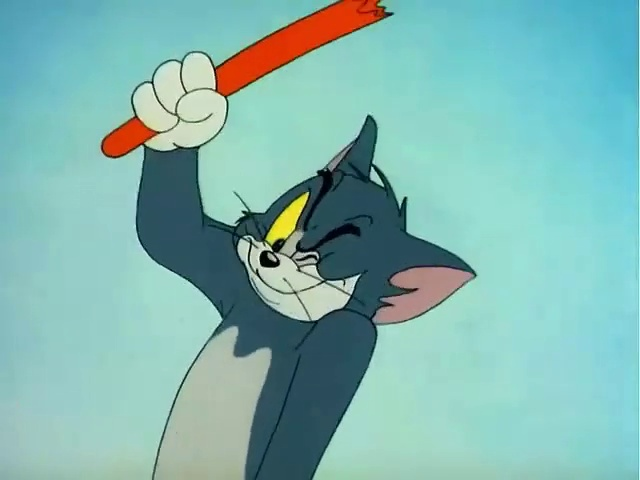tom: (90, 2, 504, 480)
